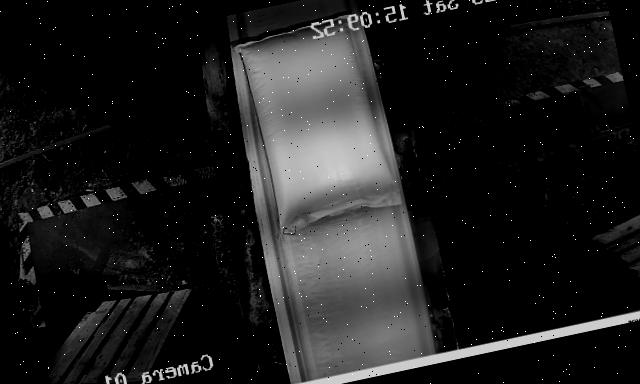bag: (232, 10, 404, 240)
